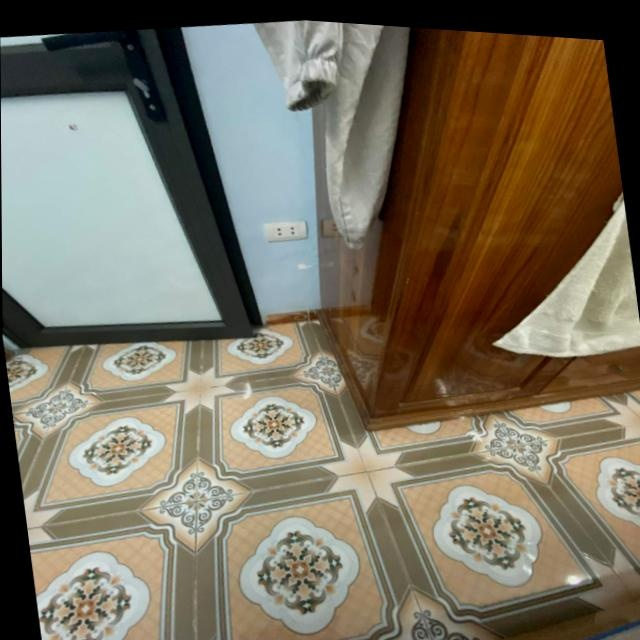outlet: (262, 216, 308, 244)
